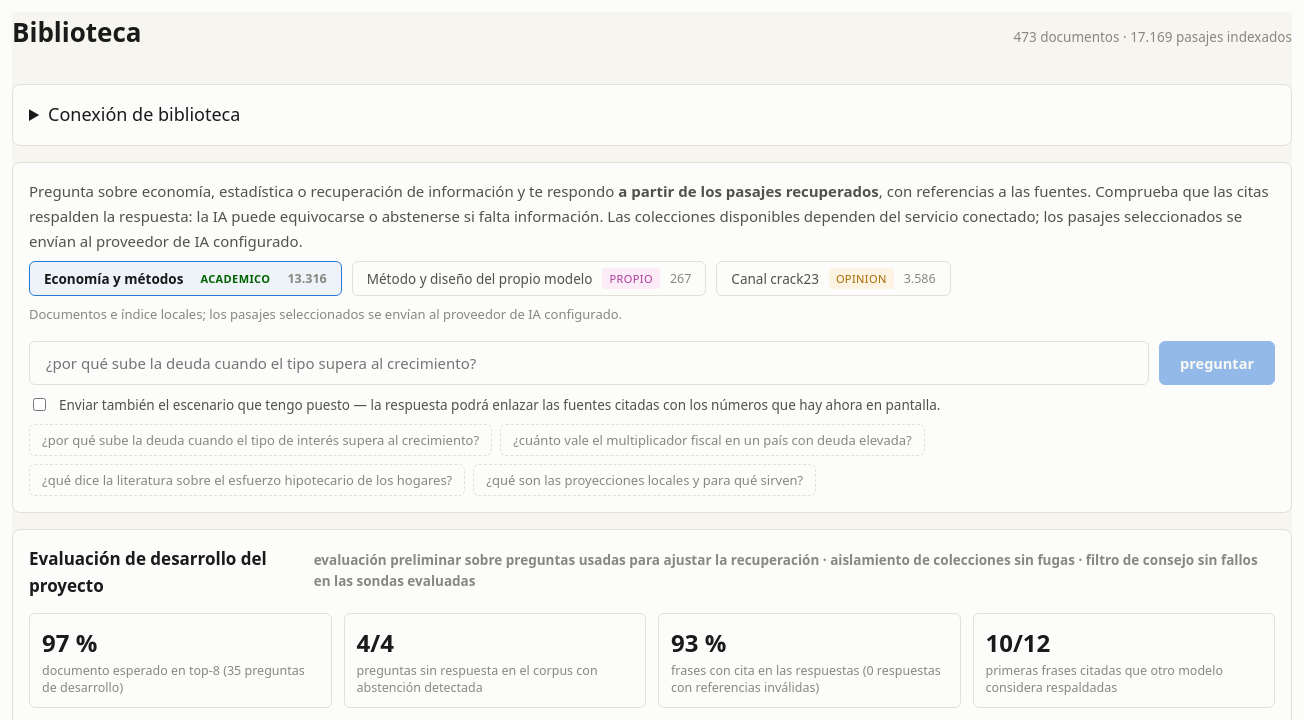
Test: Biblioteca — chat con citas › says the corpus does not cover it instead of inventing an answer
Expected: the text "Economía y métodos" is shown, left=44, top=268, right=183, bottom=289
In the field named "Pregunta": (589, 363) left=29, top=341, right=1149, bottom=385, type "qué dice sobre la fusión fría"
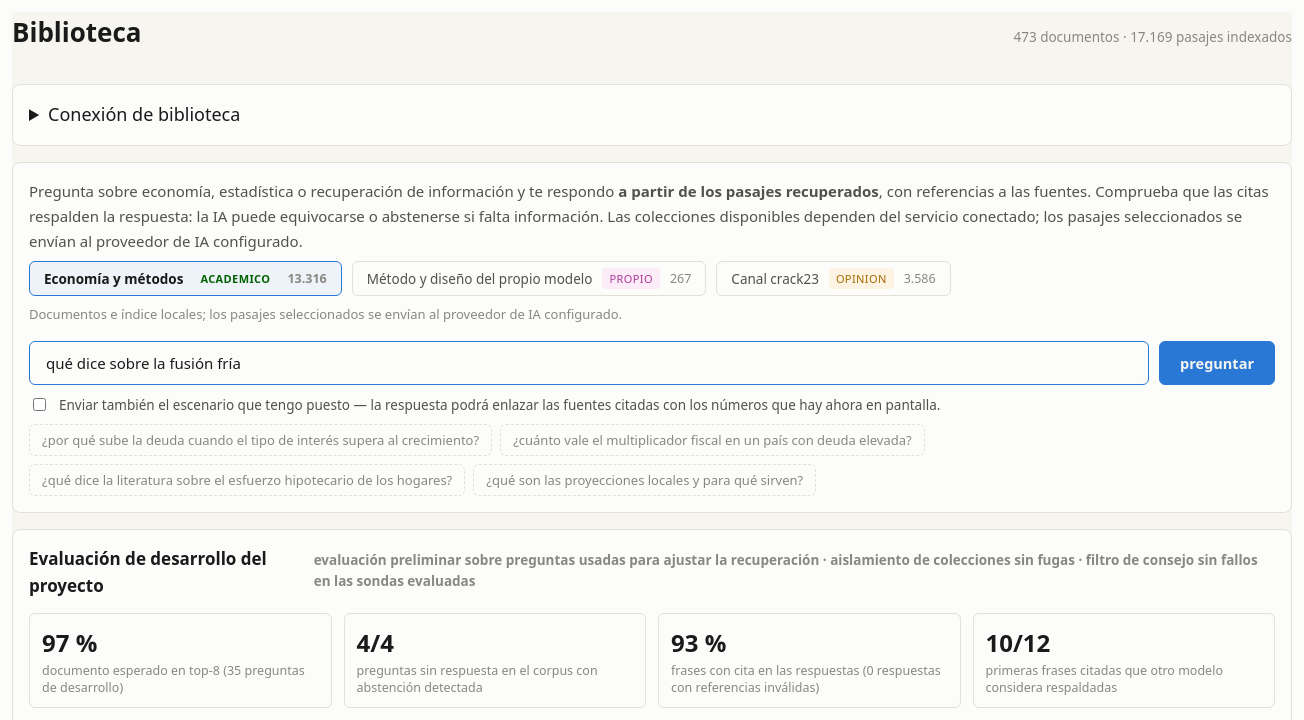
Click the button "preguntar": (1217, 363) left=1159, top=341, right=1275, bottom=385
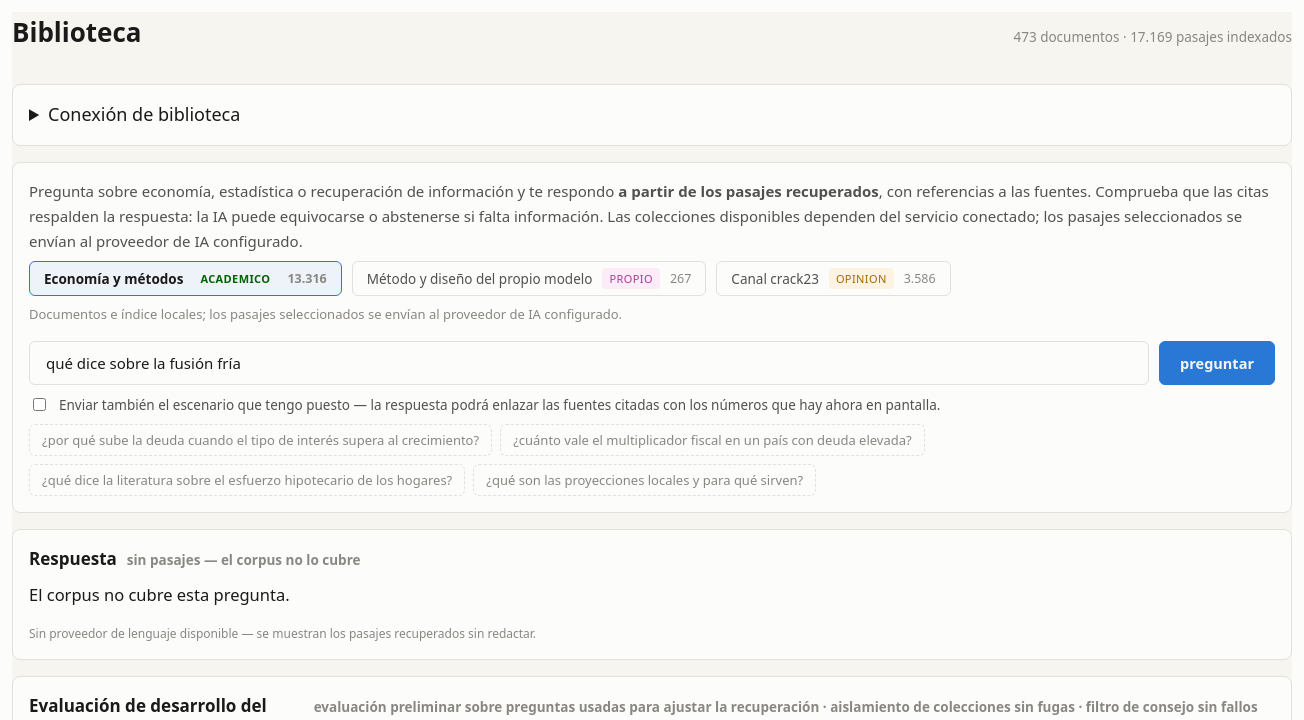
Expected: the text "El corpus no cubre esta pregunta." is shown, left=29, top=583, right=290, bottom=606
Expected: the text "sin pasajes — el corpus no lo cubre" is shown, left=127, top=550, right=360, bottom=571
